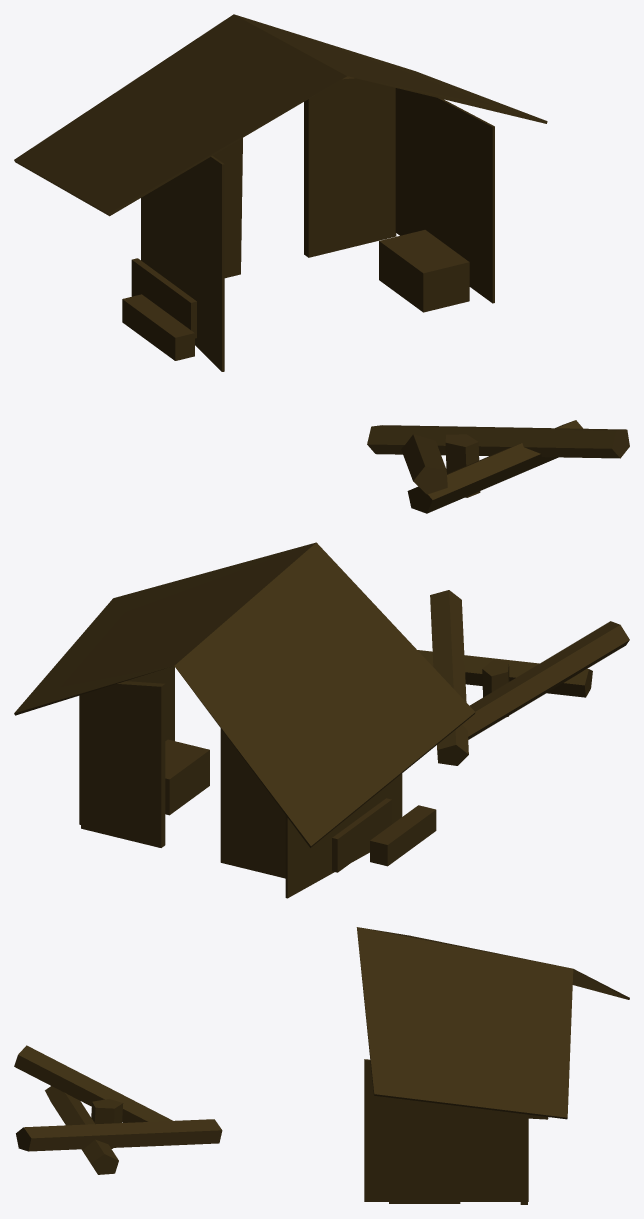
Rendered from camp.glb.
3 renders of one model, top to bottom at view 1: azimuth 30°, elevation 25°; view 2: azimuth 150°, elevation 25°; view 3: azimuth 270°, elevation 25°, orthographic. The views are drawn at different scales.
Parts seen in each view (by area): view 1: Cube.003, Cube, Cube.001, Cube.002, Cylinder.001, Cube.008, Cube.004, Cylinder, Cube.009, Cube.005, Cube.010, Cylinder.003 (+1 smaller); view 2: Cube.003, Cube.004, Cube.001, Cube.005, Cylinder.003, Cylinder.001, Cube.002, Cube.008, Cube.009, Cube.010, Cylinder, Cube (+1 smaller); view 3: Cube.004, Cube, Cylinder.001, Cylinder.003, Cylinder, Cube.003, Cylinder.002.
Part boxes in pixels (left/top/right/bottom): Cube.003: left=14, top=14, right=346, bottom=216; Cube: left=395, top=88, right=494, bottom=303; Cube.001: left=304, top=76, right=396, bottom=257; Cube.002: left=141, top=156, right=224, bottom=371; Cylinder.001: left=367, top=425, right=629, bottom=458; Cube.008: left=379, top=230, right=469, bottom=312; Cube.004: left=235, top=14, right=547, bottom=123; Cylinder: left=407, top=420, right=582, bottom=513; Cube.009: left=122, top=294, right=194, bottom=360; Cube.005: left=213, top=138, right=242, bottom=278; Cube.010: left=131, top=258, right=196, bottom=338; Cylinder.003: left=401, top=434, right=447, bottom=494; Cube.003: left=174, top=542, right=475, bottom=847; Cube.004: left=14, top=542, right=315, bottom=715; Cube.001: left=81, top=681, right=165, bottom=847; Cube.005: left=220, top=728, right=285, bottom=878; Cylinder.003: left=462, top=621, right=629, bottom=739; Cylinder.001: left=430, top=590, right=468, bottom=765; Cube.002: left=285, top=773, right=402, bottom=898; Cube.008: left=165, top=739, right=209, bottom=815; Cube.009: left=370, top=805, right=436, bottom=866; Cube.010: left=332, top=798, right=391, bottom=872; Cylinder: left=417, top=650, right=592, bottom=697; Cube: left=79, top=666, right=174, bottom=824; Cube.004: left=356, top=927, right=573, bottom=1119; Cube: left=364, top=1059, right=528, bottom=1201; Cylinder.001: left=16, top=1119, right=222, bottom=1151; Cylinder.003: left=14, top=1045, right=172, bottom=1122; Cylinder: left=45, top=1086, right=118, bottom=1174; Cube.003: left=361, top=927, right=629, bottom=999; Cylinder.002: left=91, top=1099, right=123, bottom=1148.
Size of what is drawn, in the model's own units: 8.21 by 5.56 by 13.03.
